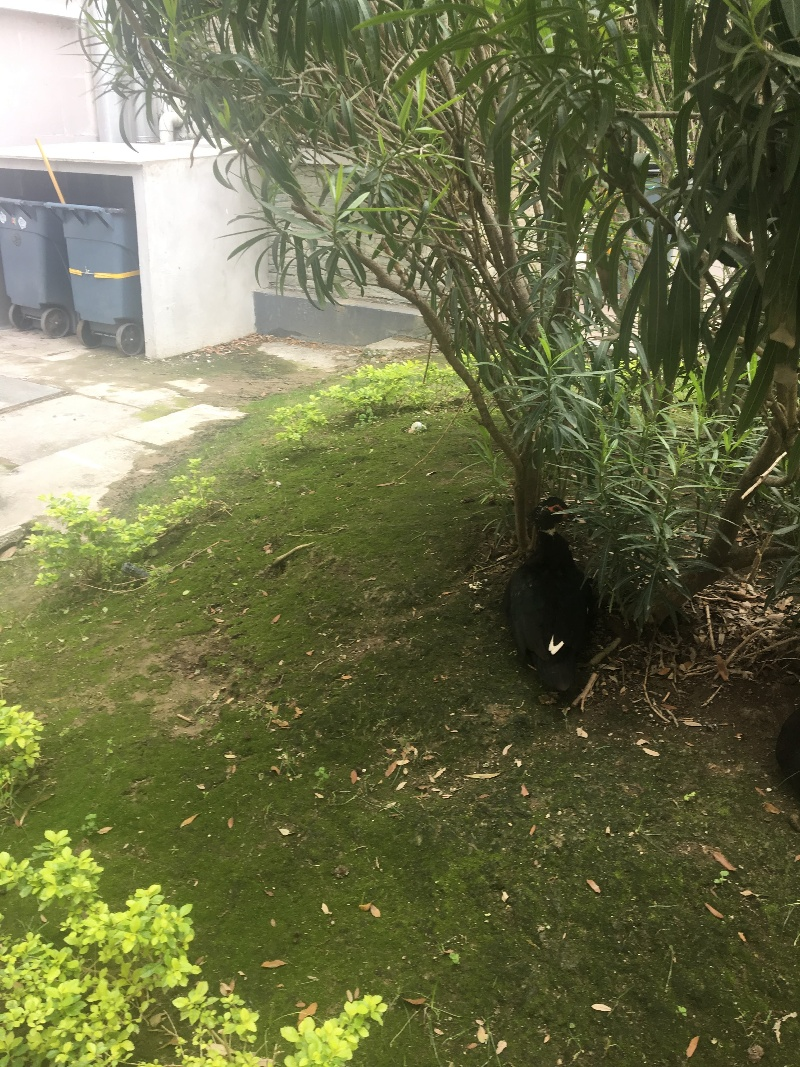pato: (508, 499, 604, 694)
